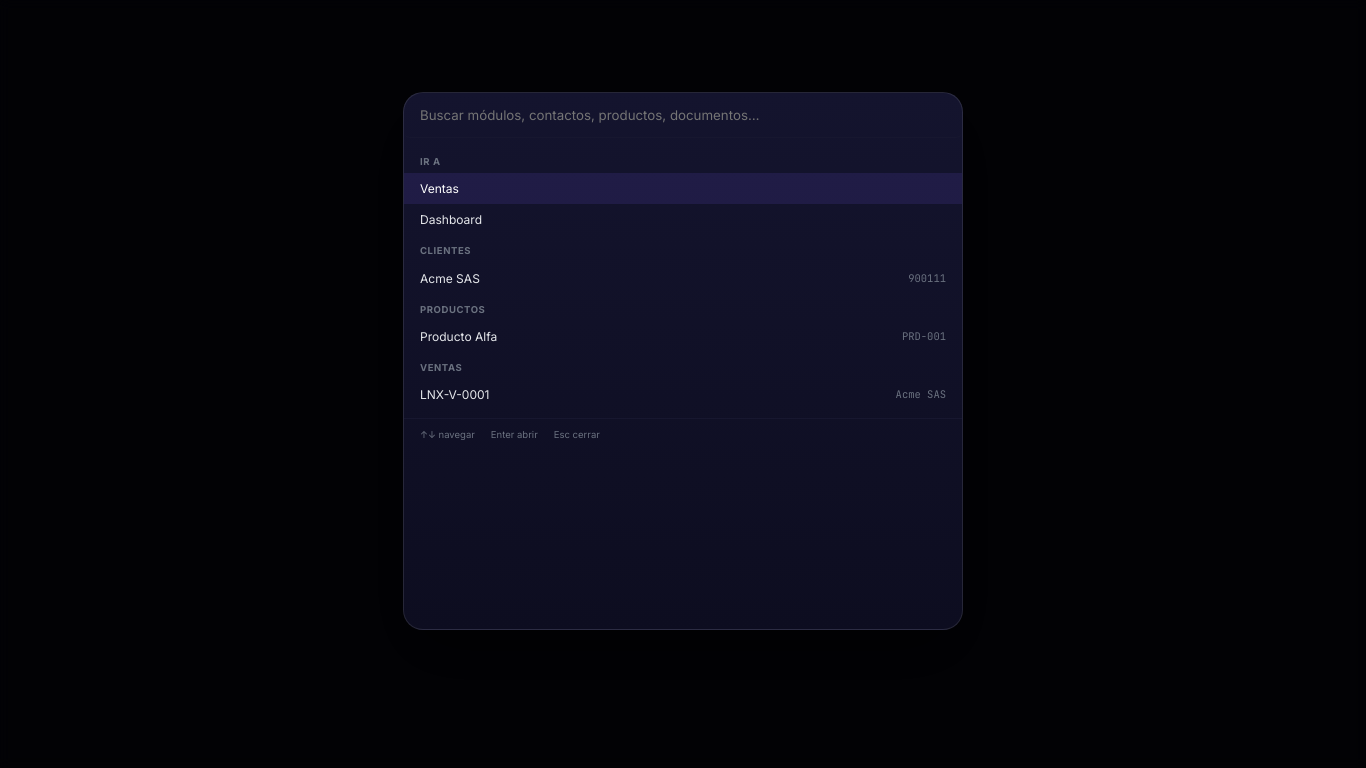
Scenario: CommandPalette › filtra por texto
Expected: the text "Producto Alfa" is shown, left=420, top=329, right=497, bottom=344
Type "dash" into the search field named "Buscar en el ERP" at (683, 116), box left=404, top=93, right=962, bottom=138
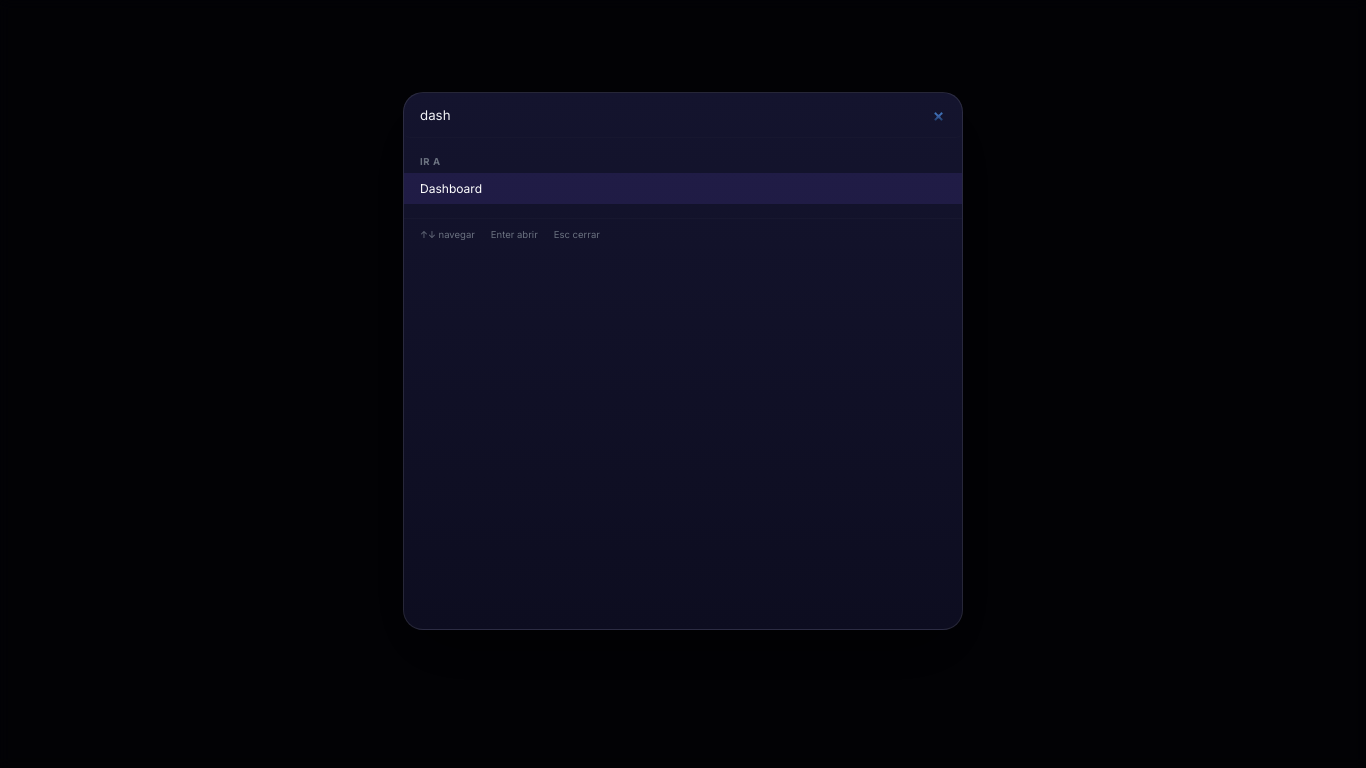
Expected: the text "Dashboard" is shown, left=420, top=181, right=482, bottom=196
Now the button "Ventas" is gone
